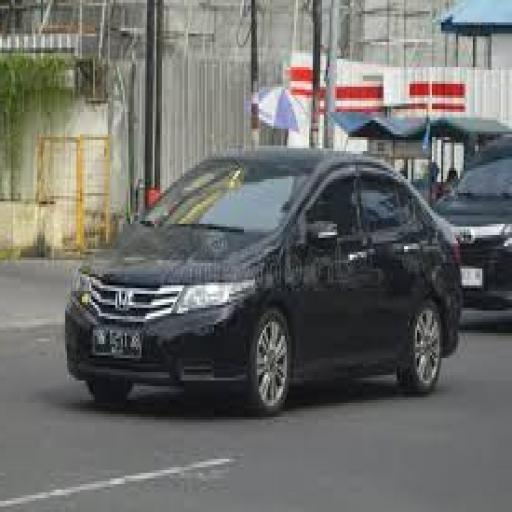License: (82, 323, 148, 364)
